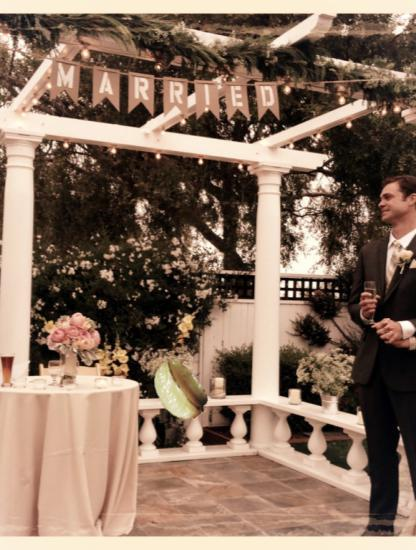Carambula: (147, 358, 211, 422)
